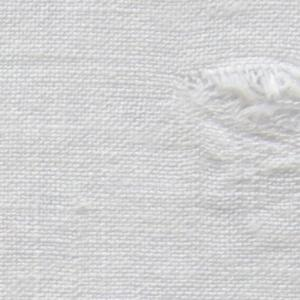Damage: (168, 48, 300, 228)
